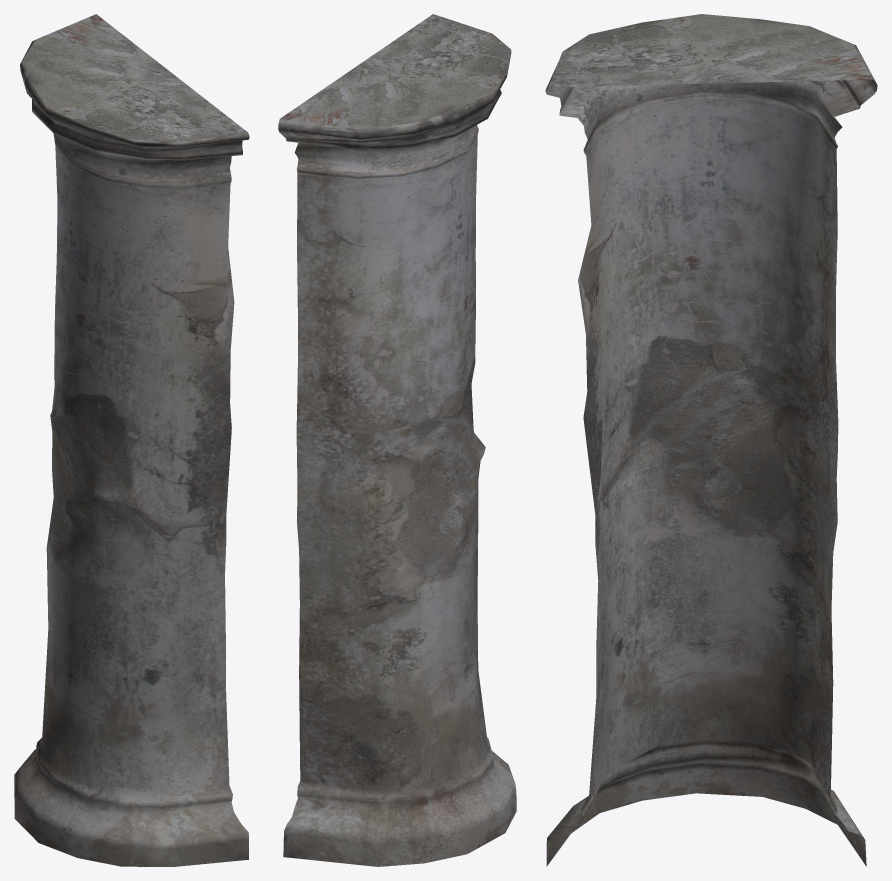
The model's file is sm_CryptColumn_01_03.fbx.
The picture shows the model from 3 angles, left to right: view 1: azimuth 30°, elevation 25°; view 2: azimuth 150°, elevation 25°; view 3: azimuth 270°, elevation 25°; orthographic projection. The views are drawn at different scales.
Parts seen in each view (by area): view 1: sm_CryptColumn_01_03_LOD0; view 2: sm_CryptColumn_01_03_LOD0; view 3: sm_CryptColumn_01_03_LOD0.
Boxes of the visible parts, left/top/right/bottom form: sm_CryptColumn_01_03_LOD0: left=14, top=14, right=249, bottom=866; sm_CryptColumn_01_03_LOD0: left=278, top=14, right=516, bottom=866; sm_CryptColumn_01_03_LOD0: left=545, top=14, right=877, bottom=866.
Bounding box in the file's own units: 37.91 × 72.31 × 189.
